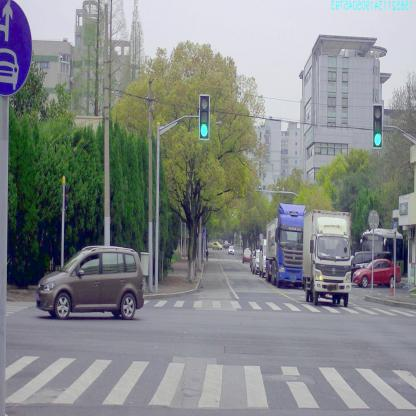traffic-light: (199, 94, 209, 139), (373, 104, 382, 149)
